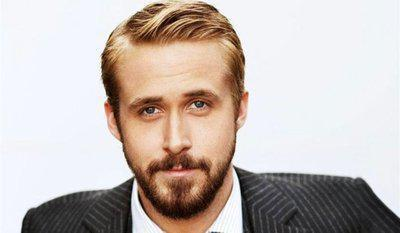Sober: (117, 43, 227, 195)
